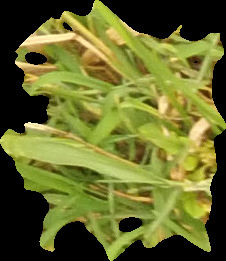grass: (1, 1, 225, 260)
